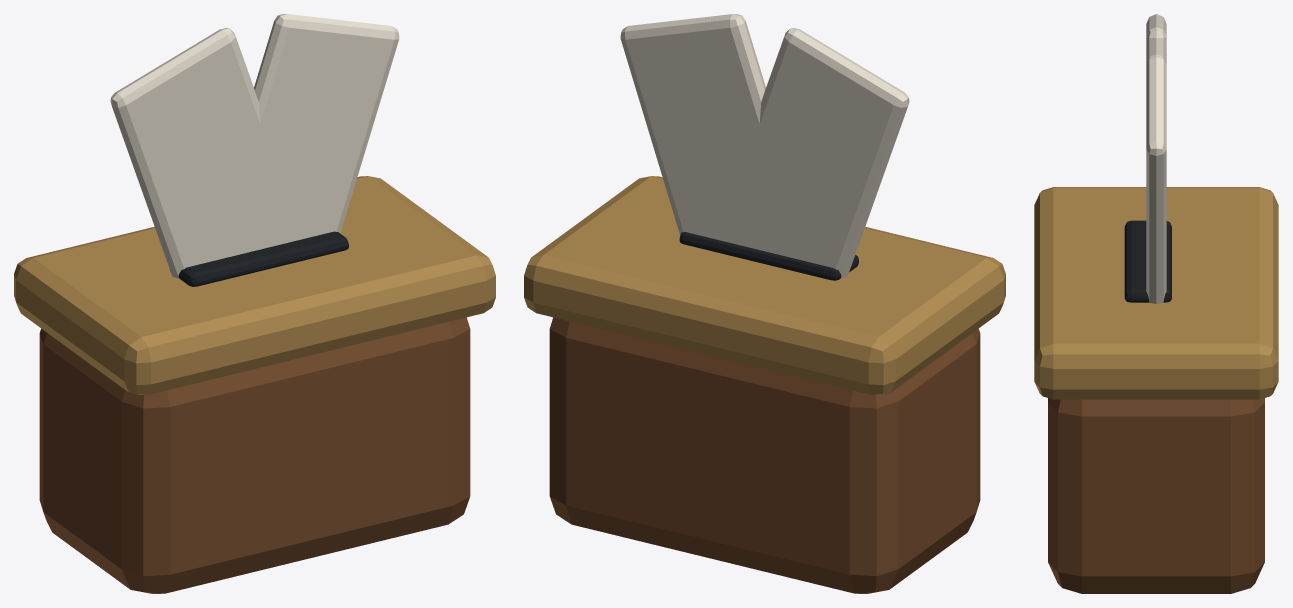
The model's file is bath_tissue_box.glb.
3 views of the same model, side by side, from view 1: azimuth 30°, elevation 25°; view 2: azimuth 150°, elevation 25°; view 3: azimuth 270°, elevation 25° (orthographic). The views are drawn at different scales.
Parts seen in each view (by area): view 1: bath_tissue_box; view 2: bath_tissue_box; view 3: bath_tissue_box.
Part boxes in pixels (x1=…): bath_tissue_box: x1=14, y1=14, x2=495, y2=593; bath_tissue_box: x1=524, y1=14, x2=1005, y2=593; bath_tissue_box: x1=1034, y1=14, x2=1278, y2=593.
Size of the model in its own units: 0.3 by 0.3945 by 0.18.
